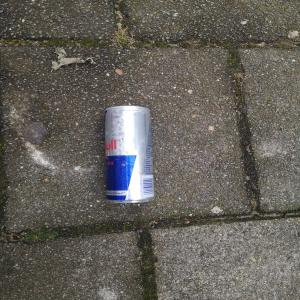Can: (97, 103, 164, 208)
